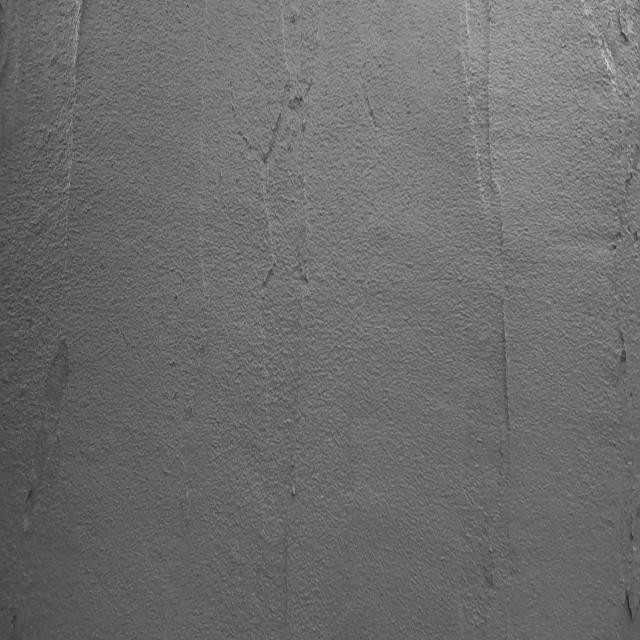trowels marks: (55, 0, 91, 310), (493, 267, 518, 475)
